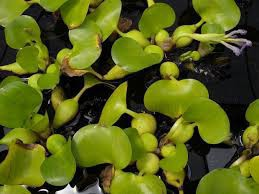water_hyacinth: (1, 2, 259, 193)
